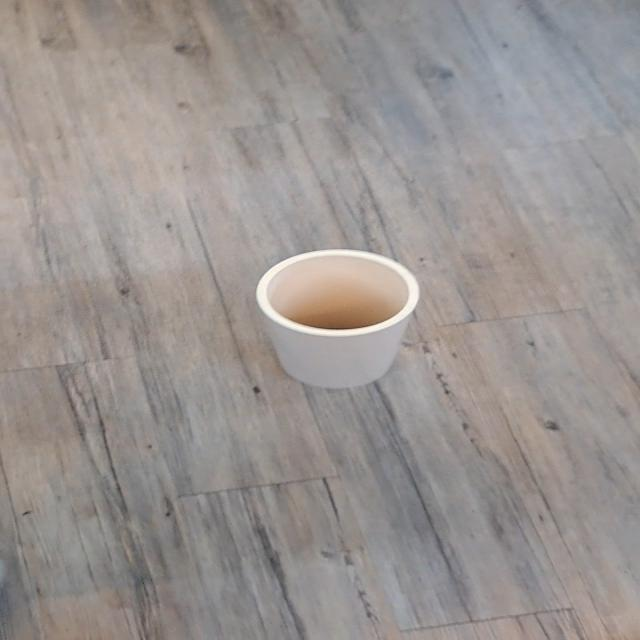CORAL: (232, 239, 442, 406)
